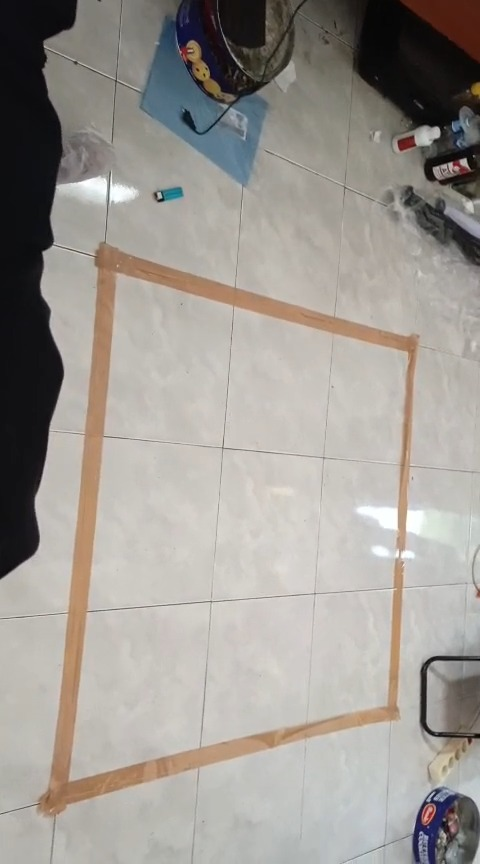floor marking: (38, 244, 417, 815)
